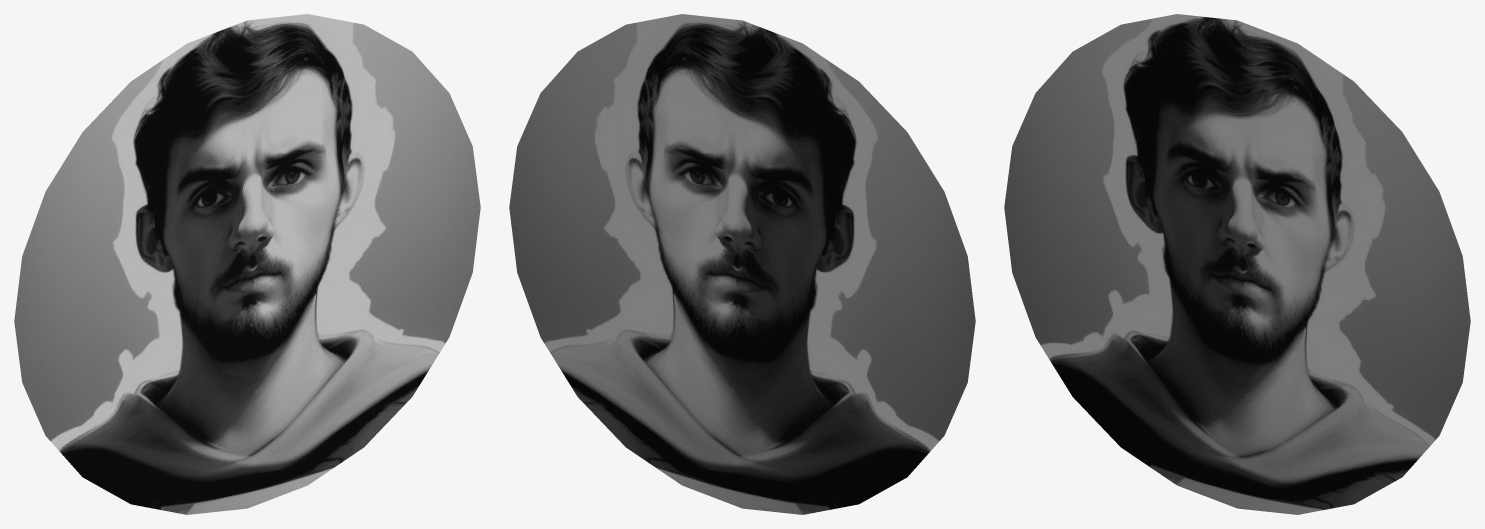
File: profile.glb
3 views of the same model, side by side, from view 1: azimuth 30°, elevation 25°; view 2: azimuth 150°, elevation 25°; view 3: azimuth 330°, elevation 25° (orthographic).
Visible parts, largest first — view 1: imagen.001; view 2: imagen.001; view 3: imagen.001.
Boxes of the visible parts, x1=… form: imagen.001: x1=14, y1=14, x2=480, y2=514; imagen.001: x1=509, y1=14, x2=975, y2=514; imagen.001: x1=1004, y1=14, x2=1470, y2=514.
Size of the model in its own units: 0.1545 by 0.1545 by 5.21e-08.
Materials: 1 (1 with a texture image).
